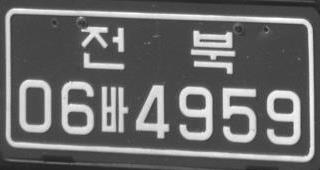0: (18, 78, 52, 133)
4: (135, 83, 169, 138)
5: (221, 86, 257, 143)
6: (60, 79, 94, 135)
9: (265, 88, 301, 145), (177, 85, 212, 140)
바: (99, 84, 128, 132)
전북_D: (79, 25, 236, 75)
